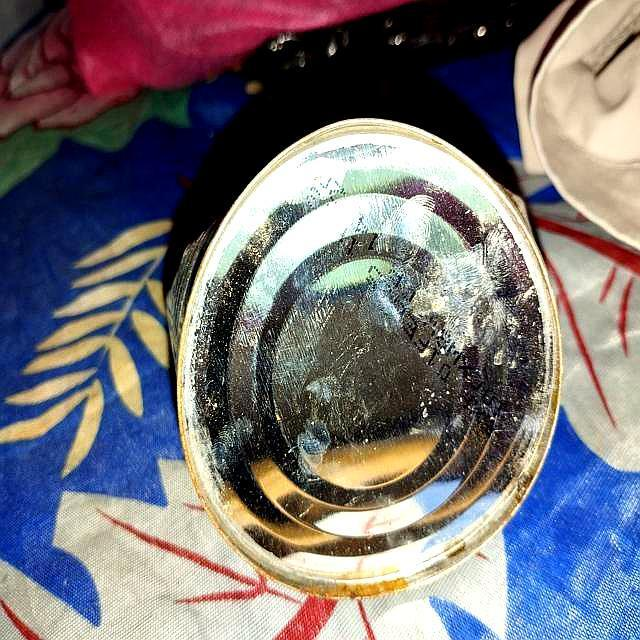Non-biodegradable: (165, 116, 565, 600)
